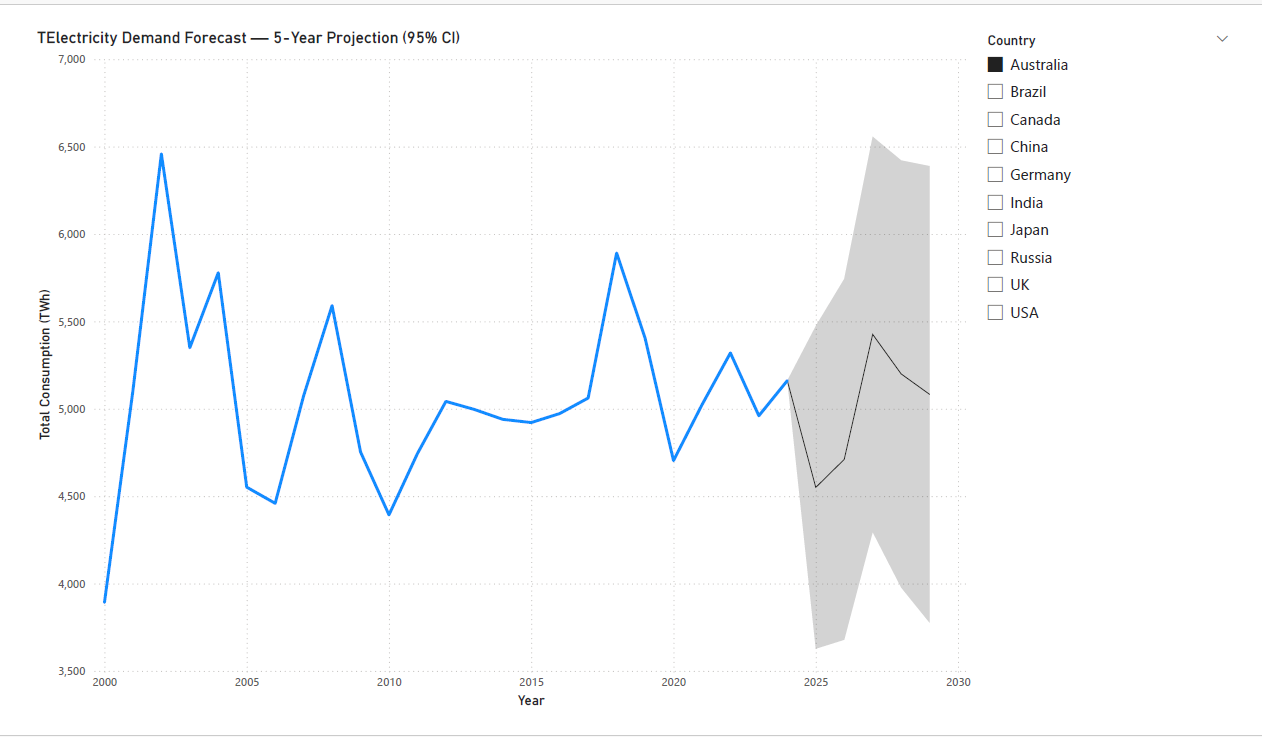

Layout of this report page (visuals, bound fields, positions):
{"tool":"powerbi","page":{"name":"Demand Forecast ","canvas":[1280,720],"ordinal":1},"visuals":[{"type":"lineChart","title":"TElectricity Demand Forecast — 5-Year Projection (95% CI)","fields":{"Category":["global_energy_consumption.Year"],"Y":["global_energy_consumption.Total Consumption (TWh)"]},"box":[10.4,0,990.3,719.7],"z":0},{"type":"slicer","fields":{"Values":["global_energy_consumption.Country"]},"box":[1000.7,0,279.6,342],"z":1}]}

Visuals, with their boxes on the page's 1280x720 design canvas (x1, y1, x2, y2). These are canvas units, not pixel positions in the 1262x737 screenshot, which may show the page scaled, cropped or inside an application window:
"TElectricity Demand Forecast — 5-Year Projection (95% CI)" lineChart: box(10, 0, 1001, 720)
slicer - global_energy_consumption.Country: box(1001, 0, 1280, 342)
